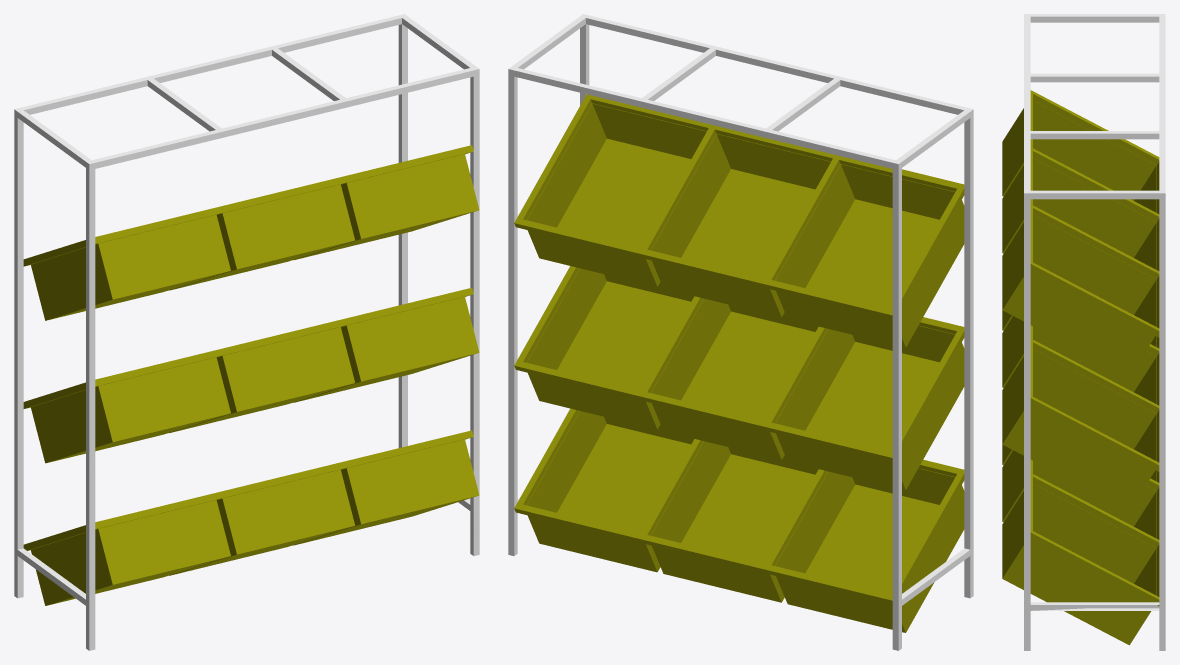
The model's file is fruit_shelf.fbx.
The picture shows the model from 3 angles, left to right: view 1: azimuth 30°, elevation 25°; view 2: azimuth 150°, elevation 25°; view 3: azimuth 270°, elevation 25°; orthographic projection. The views are drawn at different scales.
Parts seen in each view (by area): view 1: portaCajones3, portaCajones2, portaCajones1, Group1; view 2: portaCajones3, portaCajones2, portaCajones1, Group1; view 3: portaCajones3, portaCajones2, portaCajones1, Group1.
Boxes of the visible parts, <box> form: portaCajones3: <box>23,145,479,320</box>; portaCajones2: <box>23,287,479,463</box>; portaCajones1: <box>23,430,479,605</box>; Group1: <box>14,14,479,650</box>; portaCajones3: <box>514,94,964,347</box>; portaCajones2: <box>514,266,964,490</box>; portaCajones1: <box>514,408,964,632</box>; Group1: <box>508,14,973,650</box>; portaCajones3: <box>1002,90,1159,376</box>; portaCajones2: <box>1002,310,1159,510</box>; portaCajones1: <box>1002,444,1159,645</box>; Group1: <box>1024,14,1165,650</box>.
Size of the model in its own units: 132 by 157 by 50.78.
